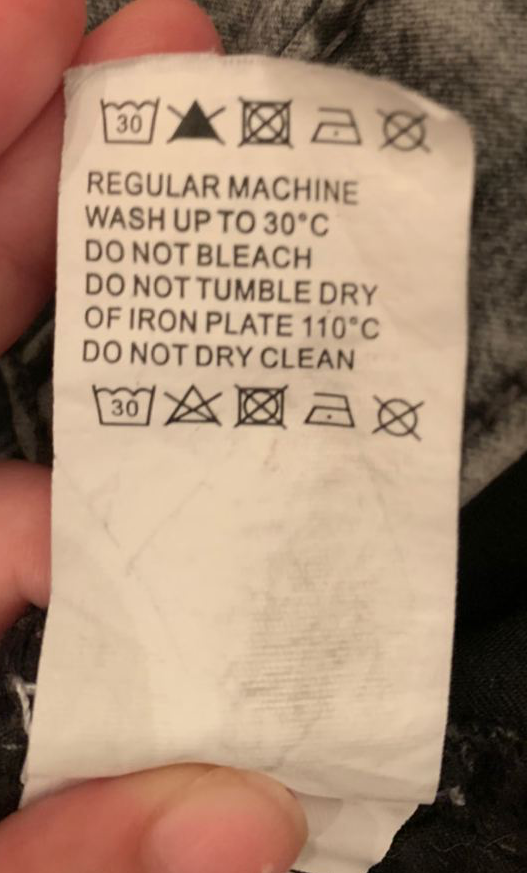do_not_bleach: (167, 93, 228, 148), (162, 377, 225, 430)
do_not_dry_clean: (366, 388, 428, 442), (372, 104, 434, 157)
do_not_tumble_drying: (234, 90, 298, 147), (230, 379, 291, 432)
ironing_at_low_temp: (308, 102, 364, 149), (301, 387, 357, 428)
wash_at_or_below_30: (96, 88, 166, 147), (92, 376, 159, 429)
